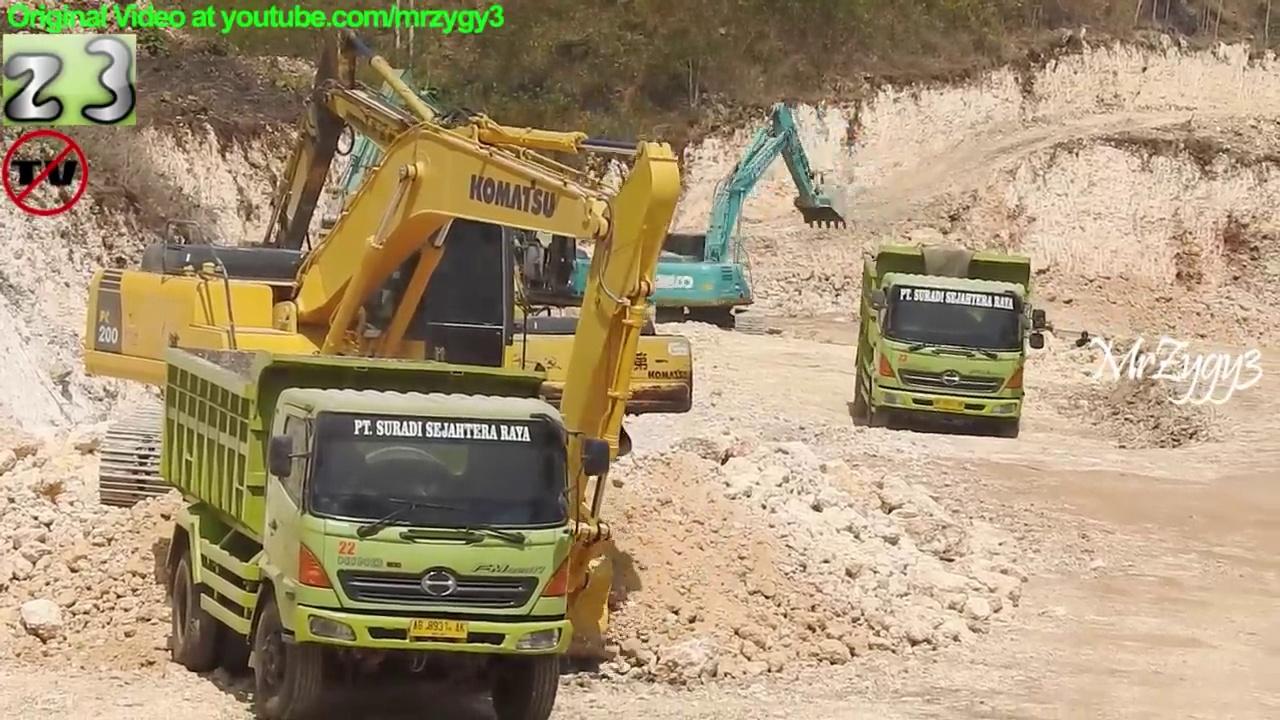excavator: (78, 105, 685, 676), (203, 12, 699, 475), (303, 59, 596, 354)
truck: (158, 340, 613, 720), (619, 98, 854, 348), (850, 241, 1055, 441)
